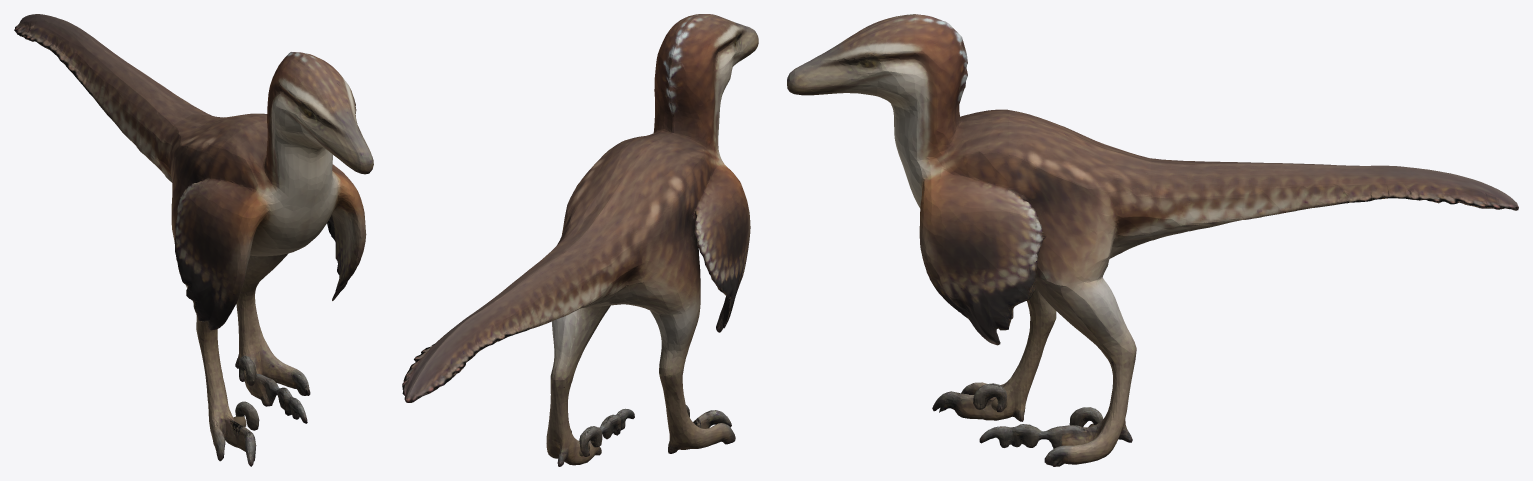
The picture shows the model from 3 angles, left to right: view 1: azimuth 30°, elevation 25°; view 2: azimuth 150°, elevation 25°; view 3: azimuth 270°, elevation 25°; orthographic projection. The views are drawn at different scales.
Parts seen in each view (by area): view 1: world, counterpart_raised_hook; view 2: world, counterpart_raised_hook; view 3: world.
Part boxes in pixels (box(x1,y1,x2,y2)): world: box(14, 14, 373, 466); counterpart_raised_hook: box(239, 355, 256, 385); world: box(402, 14, 758, 466); counterpart_raised_hook: box(579, 426, 602, 456); world: box(787, 14, 1518, 466).
Size of the model in its own units: 0.2624 by 0.6374 by 1.
2 materials, 1 textured.
